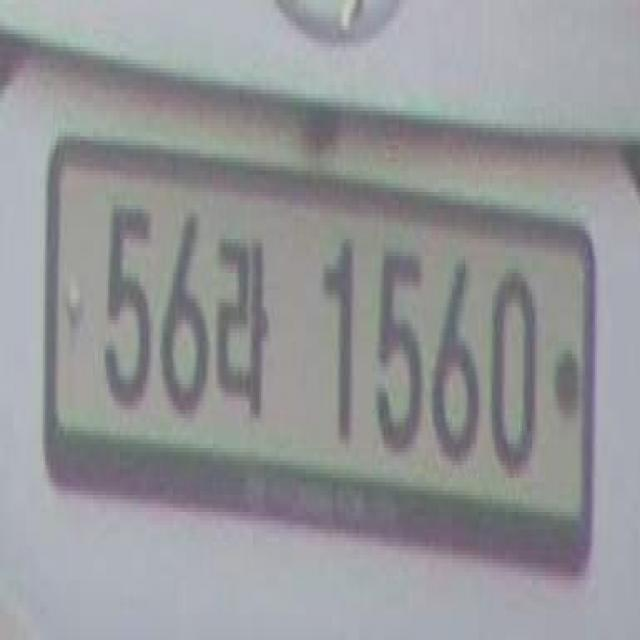illegal_plate: (43, 147, 608, 578)
